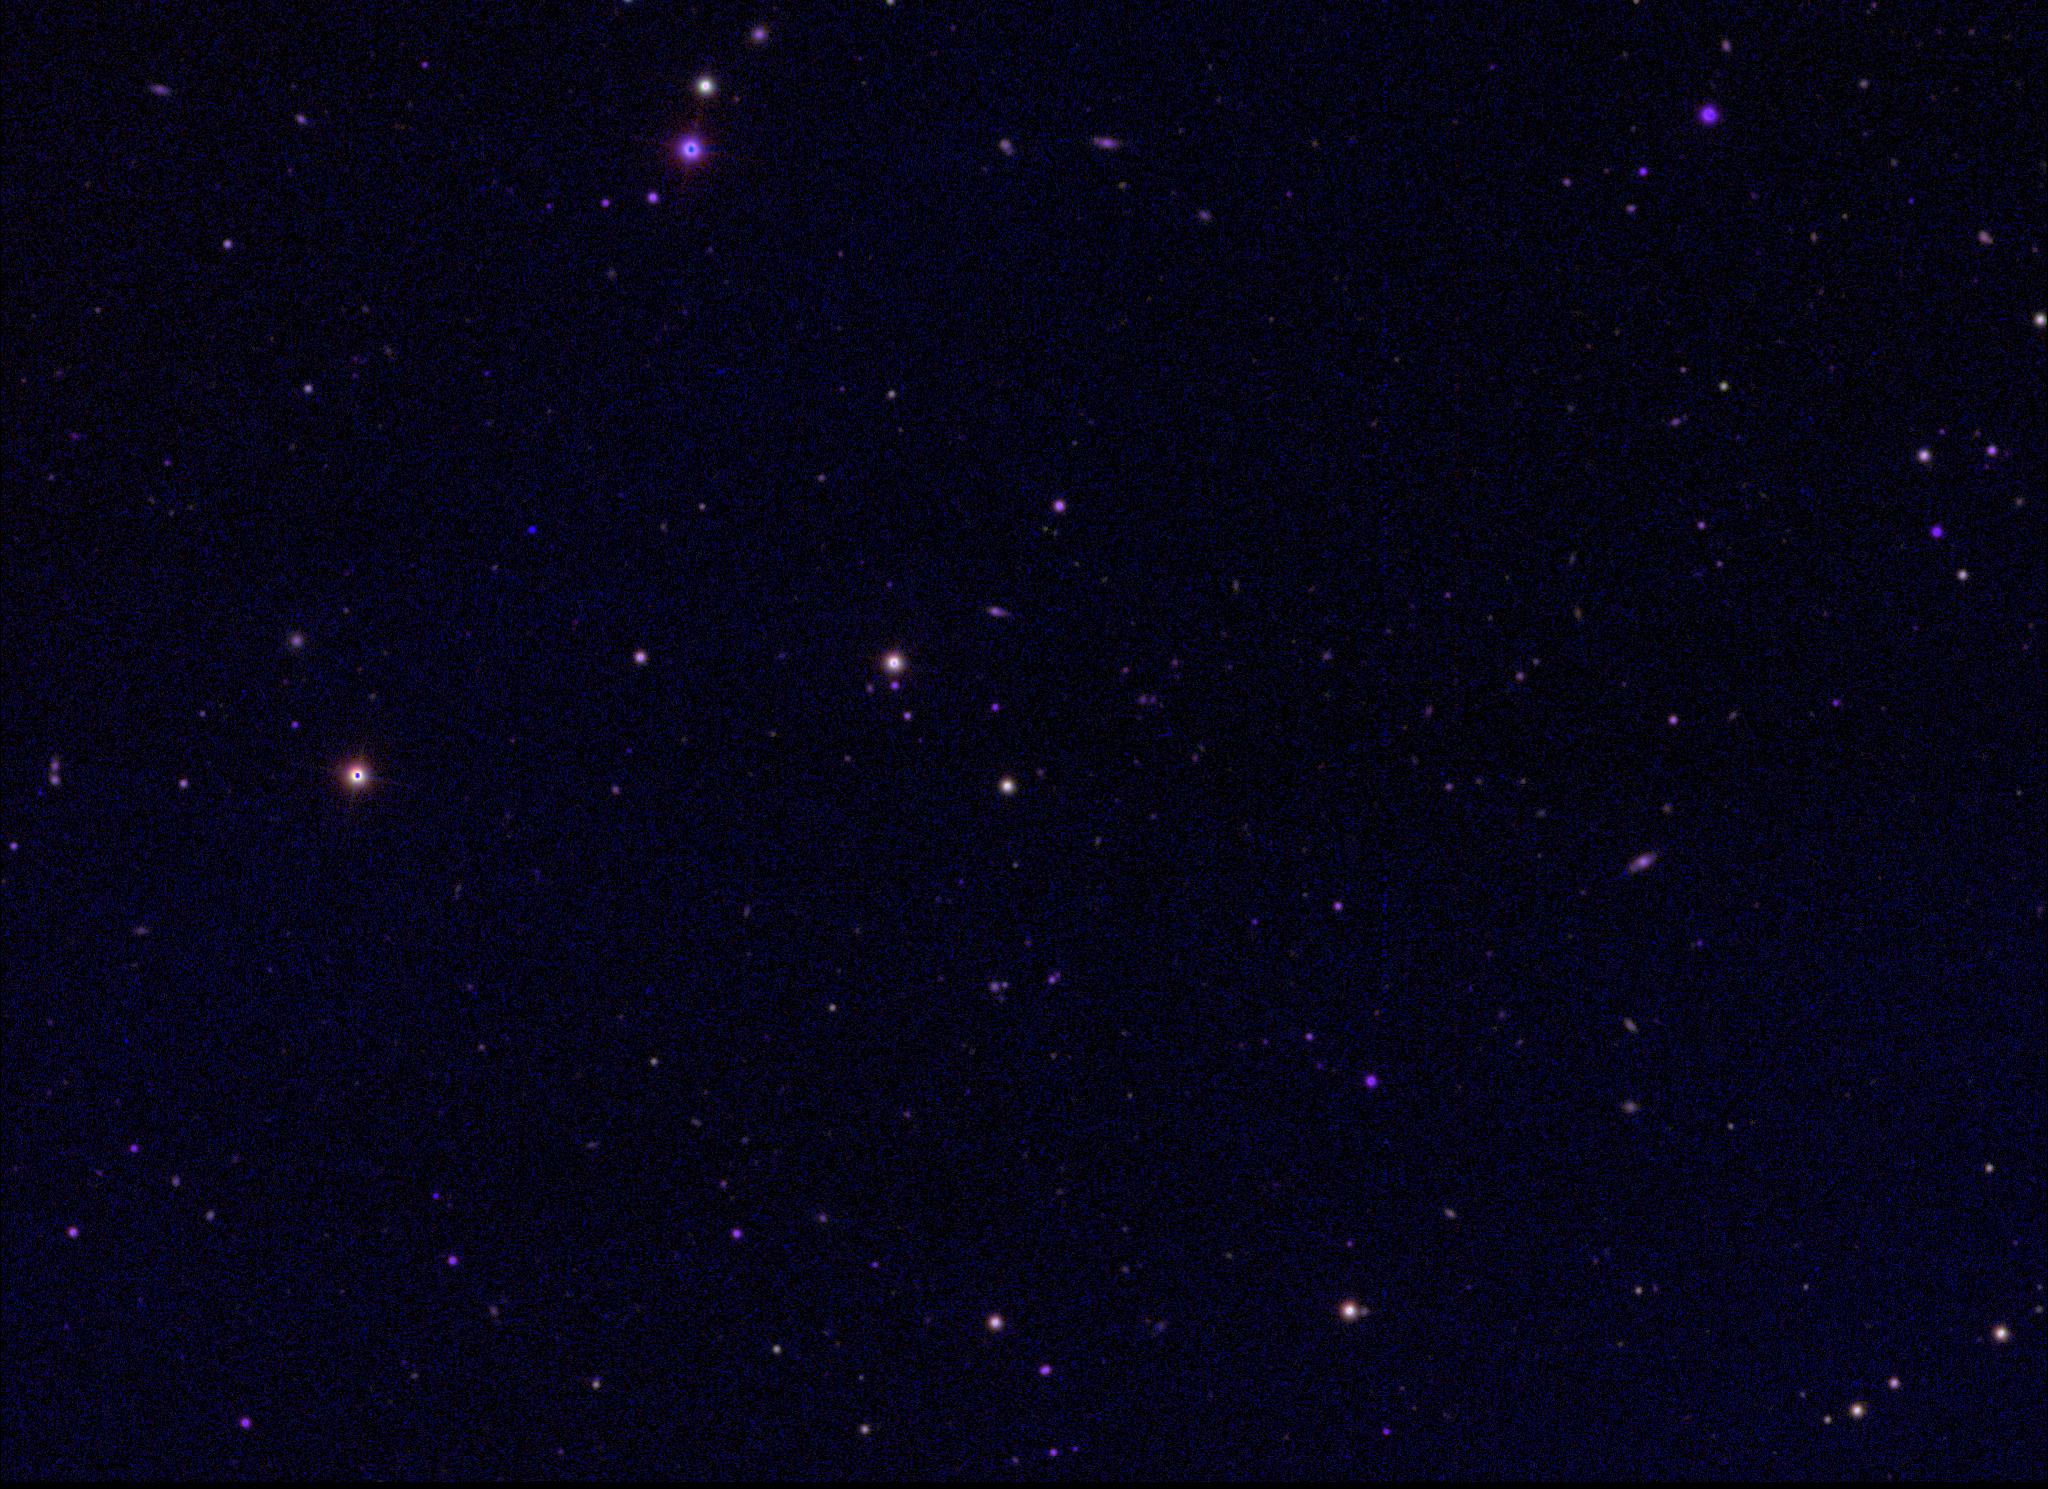L: (523, 527, 537, 541)
